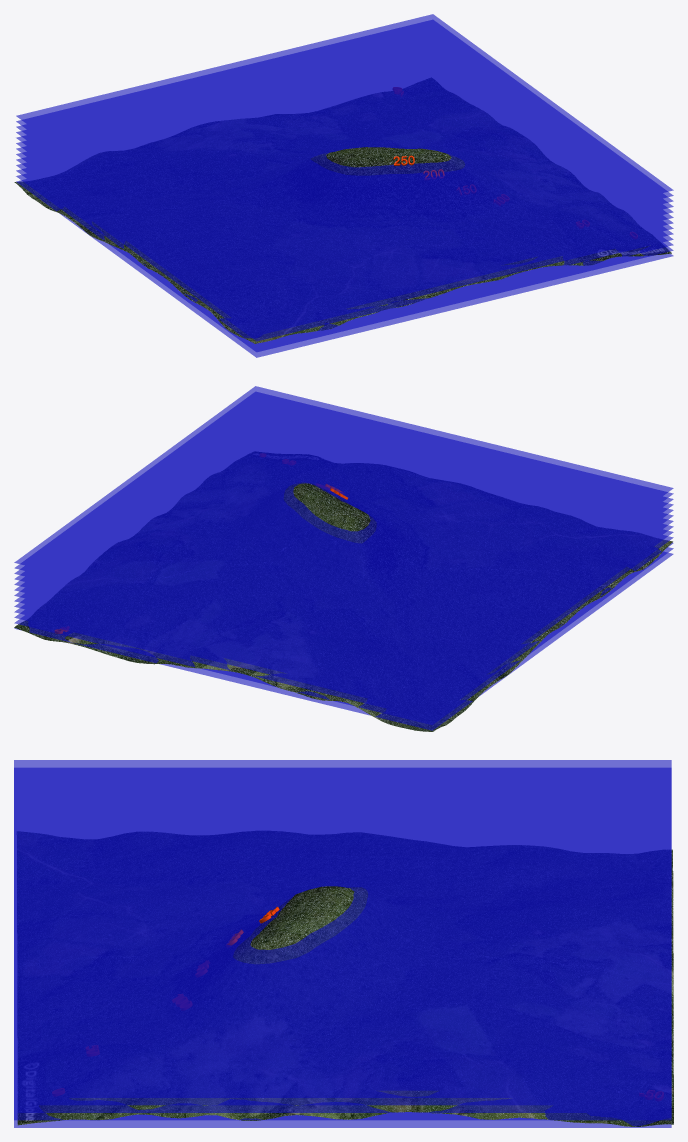
Rendered from Prudentopolis1.dae.
The picture shows the model from 3 angles, top to bottom: view 1: azimuth 30°, elevation 25°; view 2: azimuth 150°, elevation 25°; view 3: azimuth 270°, elevation 25°; orthographic projection. The views are drawn at different scales.
Visible parts, largest first — view 1: SketchUp (×14); view 2: SketchUp (×14); view 3: SketchUp (×14).
Boxes of the visible parts, x1,y1,x2,y2 form: SketchUp (×14): [14, 14, 673, 357]; SketchUp (×14): [14, 386, 673, 731]; SketchUp (×14): [14, 760, 673, 1127].
Size of the model in its own units: 78741 by 78760 by 13994.
Materials: 4 (1 with a texture image).
